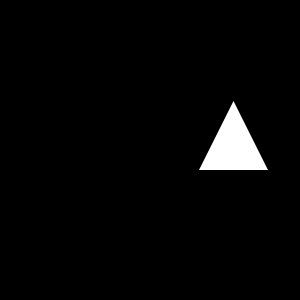triangle: (199, 101, 268, 170)
